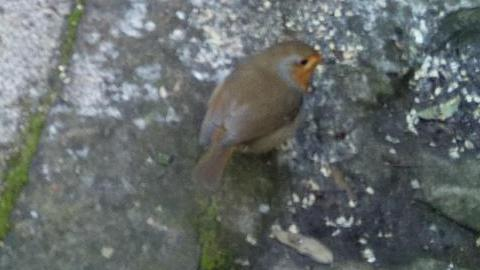robin: (190, 38, 331, 192)
